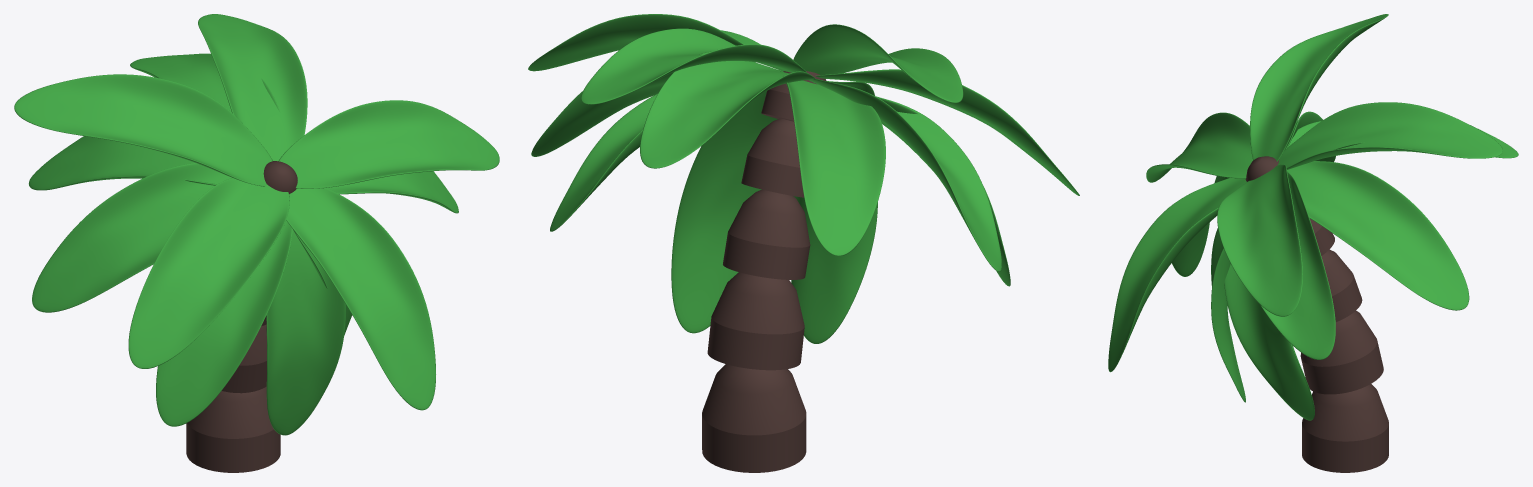
Rendered from tree3.fbx.
The picture shows the model from 3 angles, left to right: view 1: azimuth 30°, elevation 25°; view 2: azimuth 150°, elevation 25°; view 3: azimuth 270°, elevation 25°; orthographic projection. The views are drawn at different scales.
Visible parts, largest first — view 1: pDisc66, pDisc67, pDisc69, pDisc78, pDisc72, pDisc77, pDisc71, pDisc76, pCylinder34, pDisc68, pDisc70, pDisc74; view 2: pCylinder34, pDisc68, pDisc75, pDisc70, pDisc71, pDisc72, pDisc69, pDisc77, pDisc78, pDisc66, pDisc73, pDisc74 (+1 smaller); view 3: pCylinder34, pDisc73, pDisc78, pDisc71, pDisc67, pDisc69, pDisc75, pDisc74, pDisc66, pDisc77, pDisc76.
Boxes of the visible parts, x1,y1,x2,y2 form: pDisc66: [128, 177, 289, 368]; pDisc67: [286, 188, 435, 410]; pDisc69: [14, 74, 272, 186]; pDisc78: [278, 100, 499, 188]; pDisc72: [32, 163, 231, 312]; pDisc77: [266, 229, 345, 435]; pDisc71: [198, 14, 307, 161]; pDisc76: [156, 220, 292, 426]; pCylinder34: [186, 161, 297, 472]; pDisc68: [28, 136, 216, 190]; pDisc70: [130, 53, 280, 112]; pDisc74: [327, 171, 458, 213]; pCylinder34: [702, 71, 826, 472]; pDisc68: [783, 75, 885, 255]; pDisc75: [671, 91, 777, 333]; pDisc70: [640, 52, 815, 168]; pDisc71: [581, 28, 806, 104]; pDisc72: [809, 78, 1001, 271]; pDisc69: [793, 24, 963, 102]; pDisc77: [791, 196, 877, 343]; pDisc78: [528, 14, 760, 71]; pDisc66: [816, 69, 1079, 195]; pDisc73: [550, 93, 657, 231]; pDisc74: [531, 68, 783, 156]; pCylinder34: [1245, 156, 1388, 472]; pDisc73: [1287, 161, 1469, 310]; pDisc78: [1217, 164, 1302, 316]; pDisc71: [1277, 102, 1502, 169]; pDisc67: [1108, 178, 1246, 372]; pDisc69: [1250, 14, 1388, 161]; pDisc75: [1224, 264, 1314, 420]; pDisc74: [1260, 171, 1335, 359]; pDisc66: [1146, 112, 1252, 182]; pDisc77: [1211, 228, 1245, 402]; pDisc76: [1172, 176, 1229, 276].
Size of the model in its own units: 10.87 by 9.41 by 9.41.
